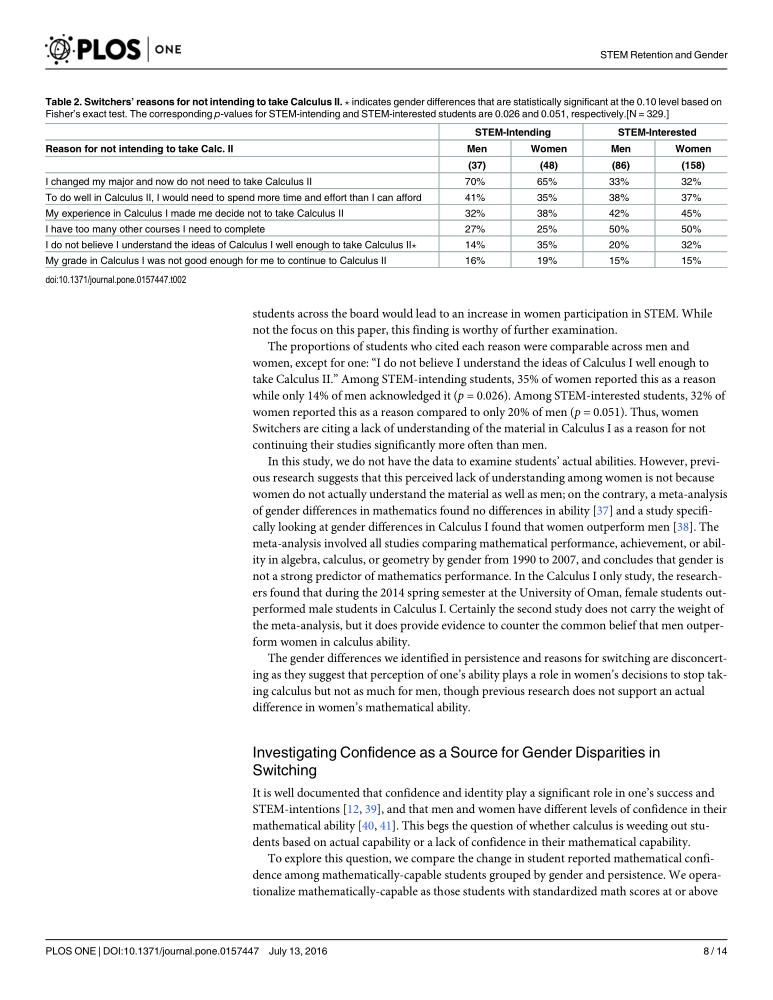table: (45, 126, 710, 266)
